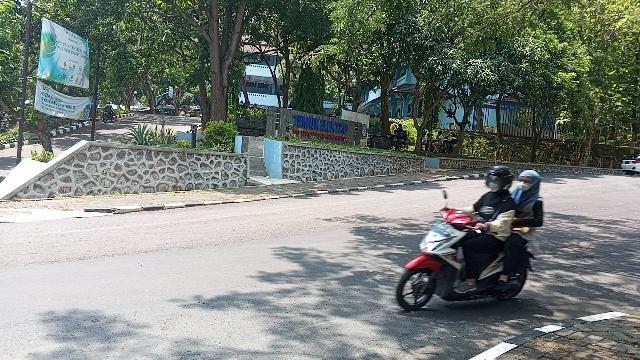helm: (487, 167, 514, 192)
motor: (398, 211, 537, 312)
non-helm: (519, 172, 541, 192)
